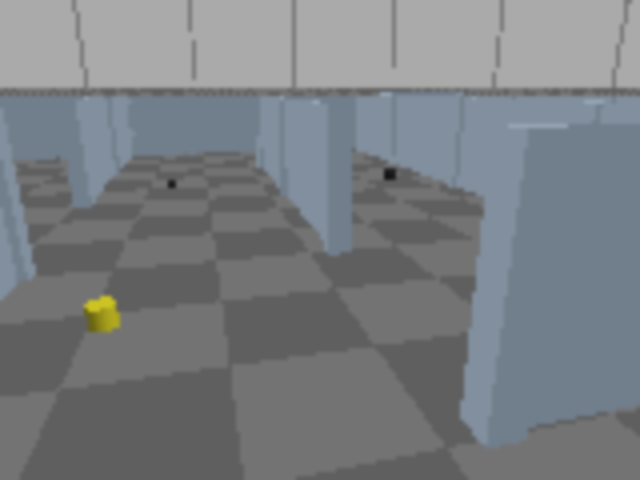puck: (88, 298, 117, 333)
